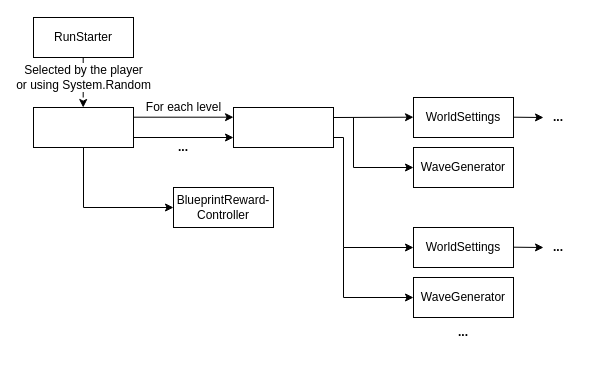
This 591x365 diagram has some shape labels left out. The box of each missing label's shape, as (x1, y1, x2, y2) in pixels:
LevelSetter: (232, 106, 334, 148)
RunPersistence: (32, 106, 134, 148)
